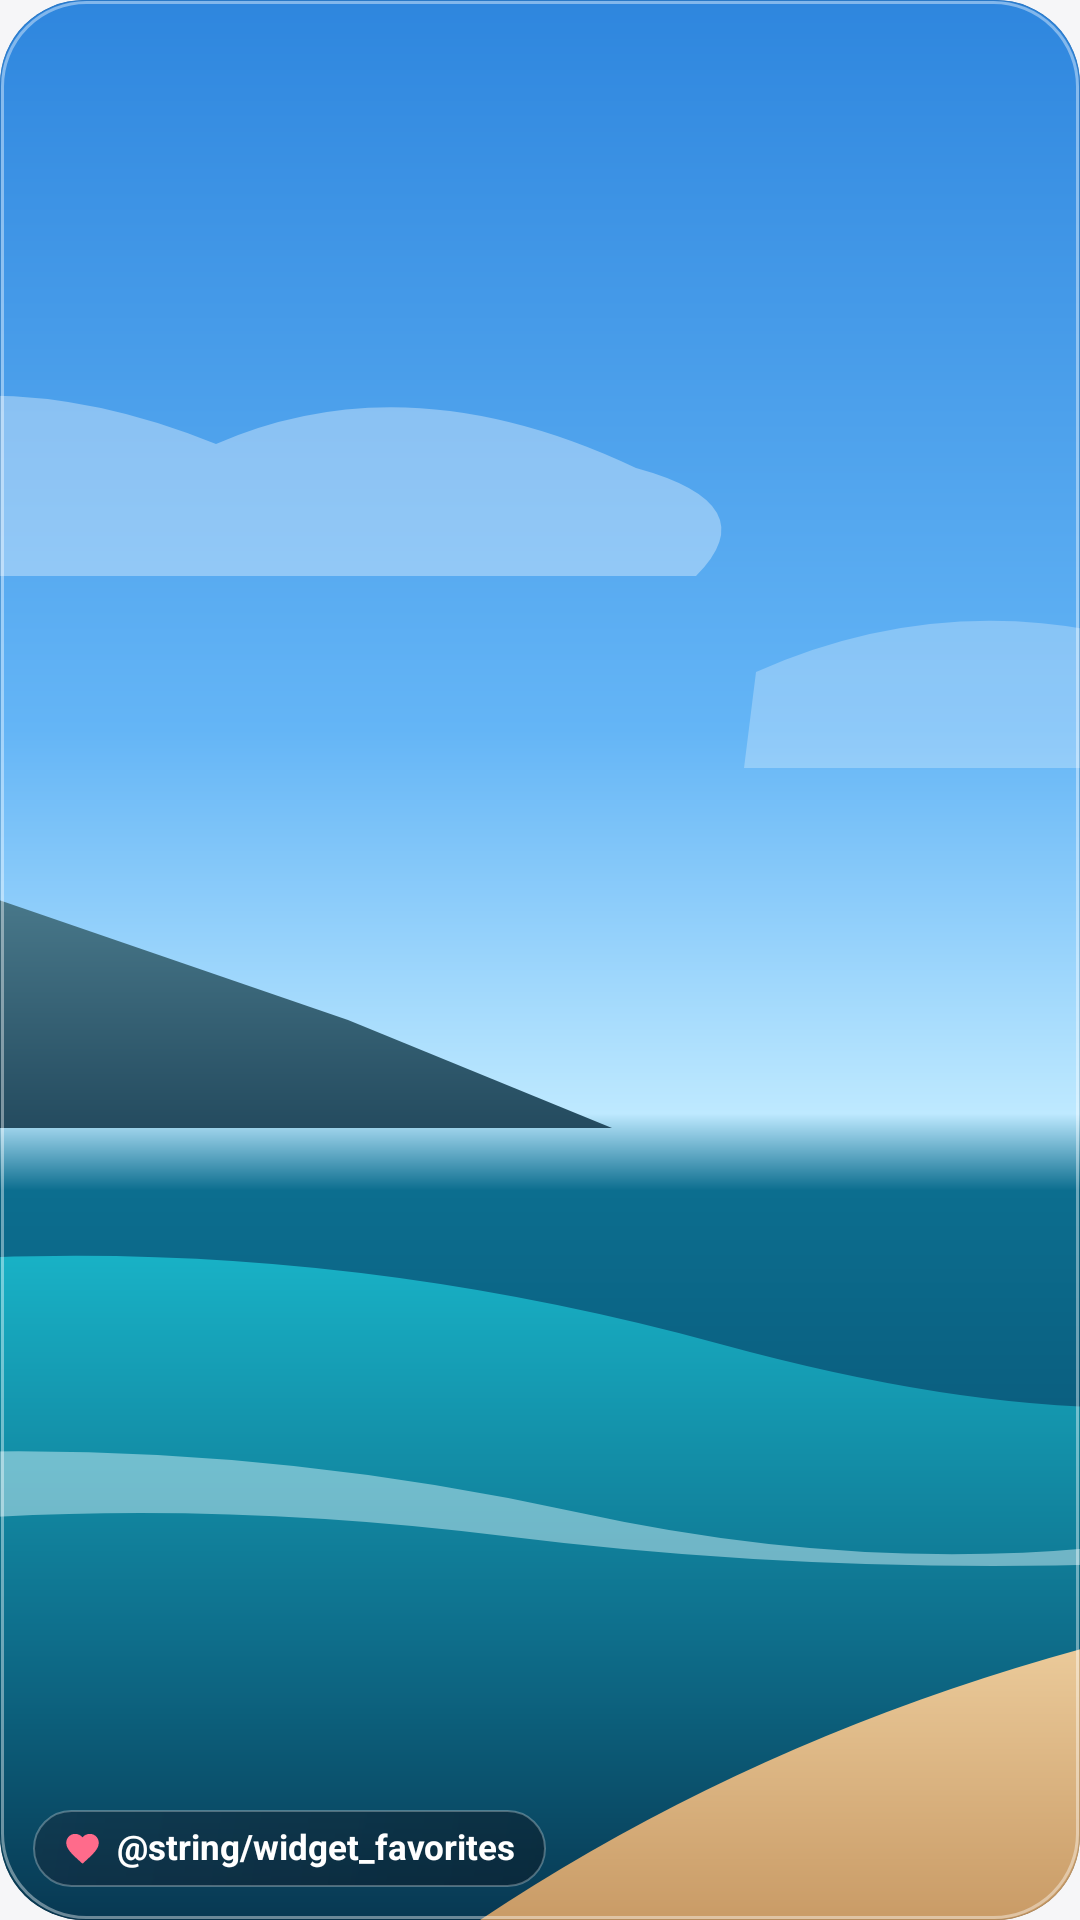

Icon bounding boxes for this 1080px x 1920px phone screenshot, format (x1, y1, x2, y2):
widget heart: (66, 1834, 99, 1864)
